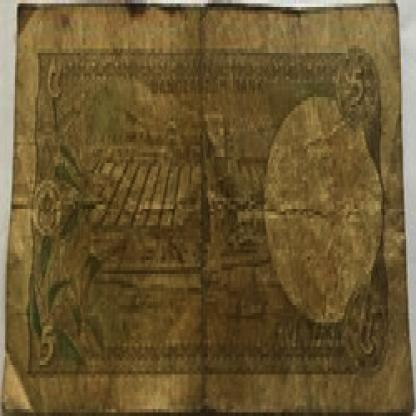Five Taka: (38, 42, 72, 121), (30, 312, 68, 374), (349, 298, 381, 371), (343, 59, 374, 118)
